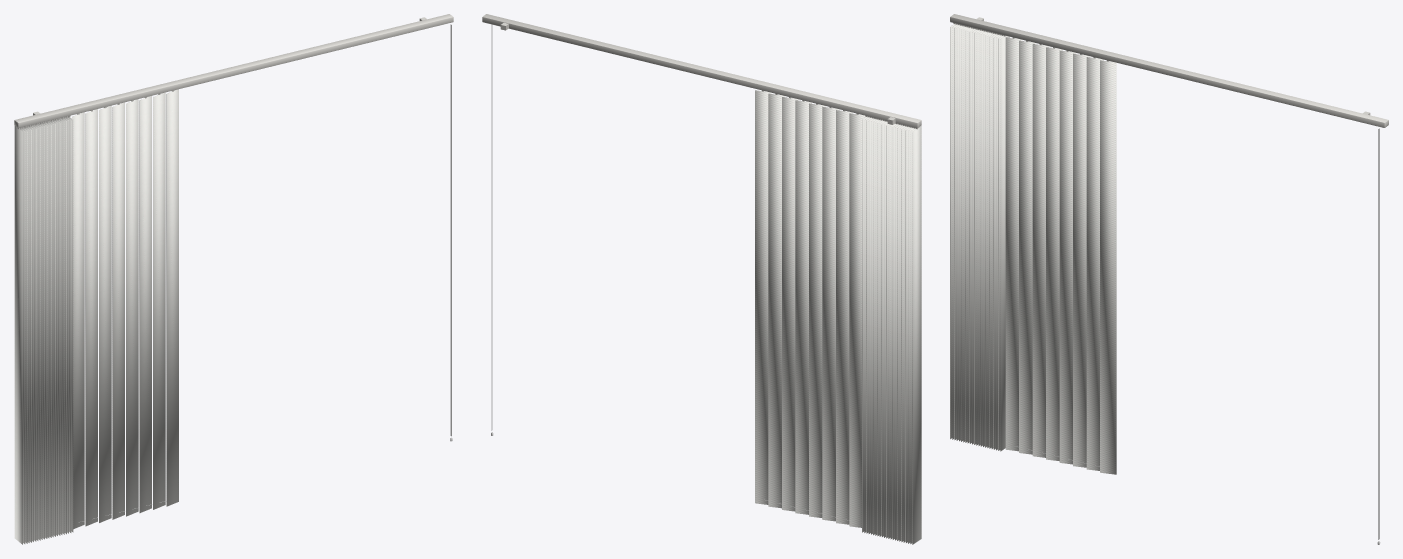
File: cortina_vertical_260_c25.glb
3 views of the same model, side by side, from view 1: azimuth 30°, elevation 25°; view 2: azimuth 150°, elevation 25°; view 3: azimuth 330°, elevation 25° (orthographic).
Parts seen in each view (by area): view 1: cortina_vertical_260_c25; view 2: cortina_vertical_260_c25; view 3: cortina_vertical_260_c25.
Boxes of the visible parts, box(x1,y1,x2,y2) form: cortina_vertical_260_c25: box(14, 14, 453, 544); cortina_vertical_260_c25: box(482, 14, 921, 544); cortina_vertical_260_c25: box(950, 14, 1388, 544).
Bounding box in the file's own units: 2.59 × 2.4 × 0.0996.
Materials: 3 (1 with a texture image).
